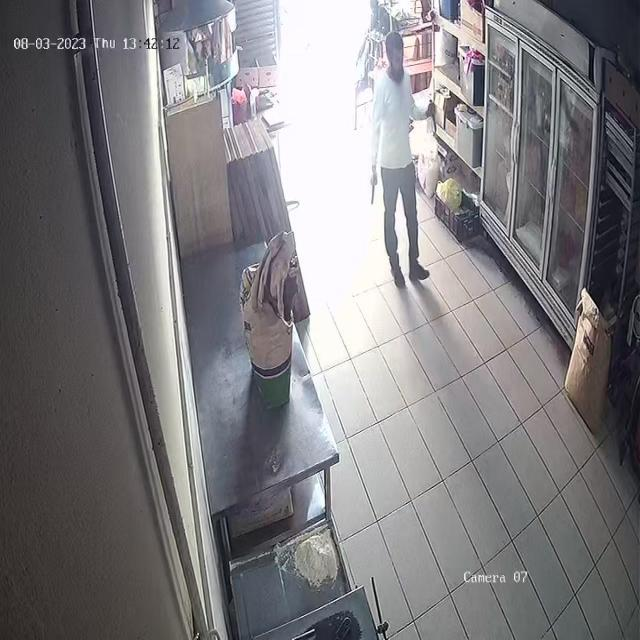Gun: (368, 177, 387, 210)
Knife: (421, 102, 447, 140)
